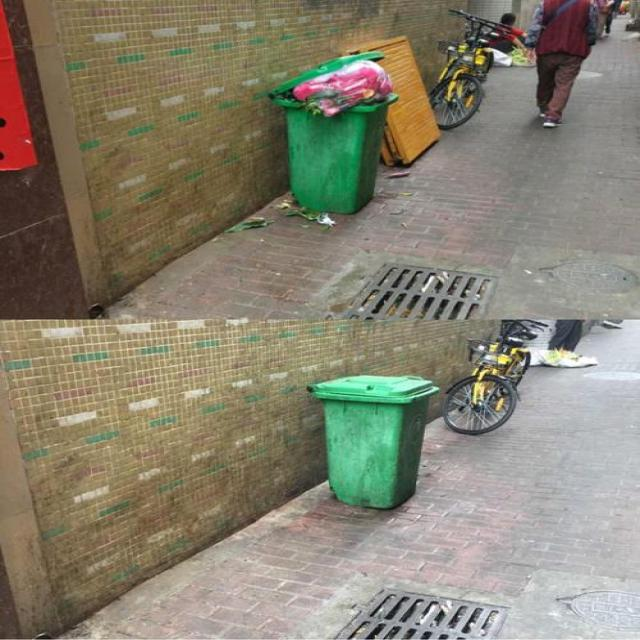garbage_bin: (307, 374, 439, 508)
overflow: (268, 52, 398, 214)
